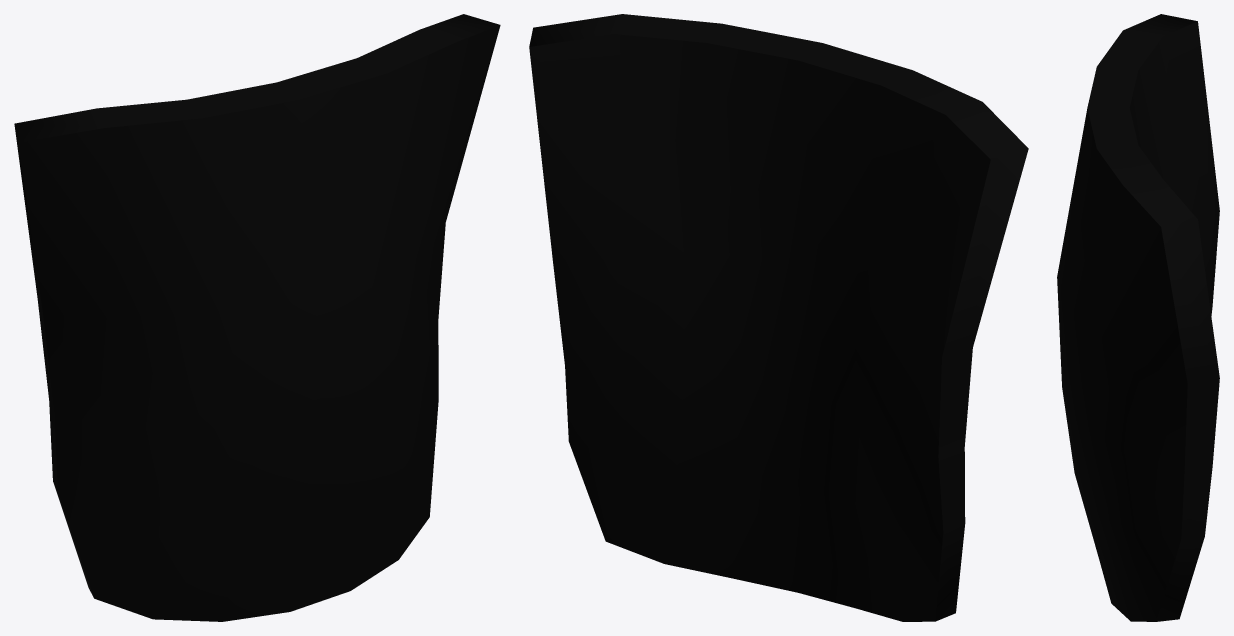
Rendered from Hair_18.fbx.
The picture shows the model from 3 angles, left to right: view 1: azimuth 30°, elevation 25°; view 2: azimuth 150°, elevation 25°; view 3: azimuth 270°, elevation 25°; orthographic projection. The views are drawn at different scales.
Visible parts, largest first — view 1: Hair_18; view 2: Hair_18; view 3: Hair_18.
Part boxes in pixels (x1,y1,x2,y2): Hair_18: [14, 14, 500, 621]; Hair_18: [529, 14, 1028, 621]; Hair_18: [1057, 14, 1219, 621].
Size of the model in its own units: 58.41 by 60.06 by 18.87.
